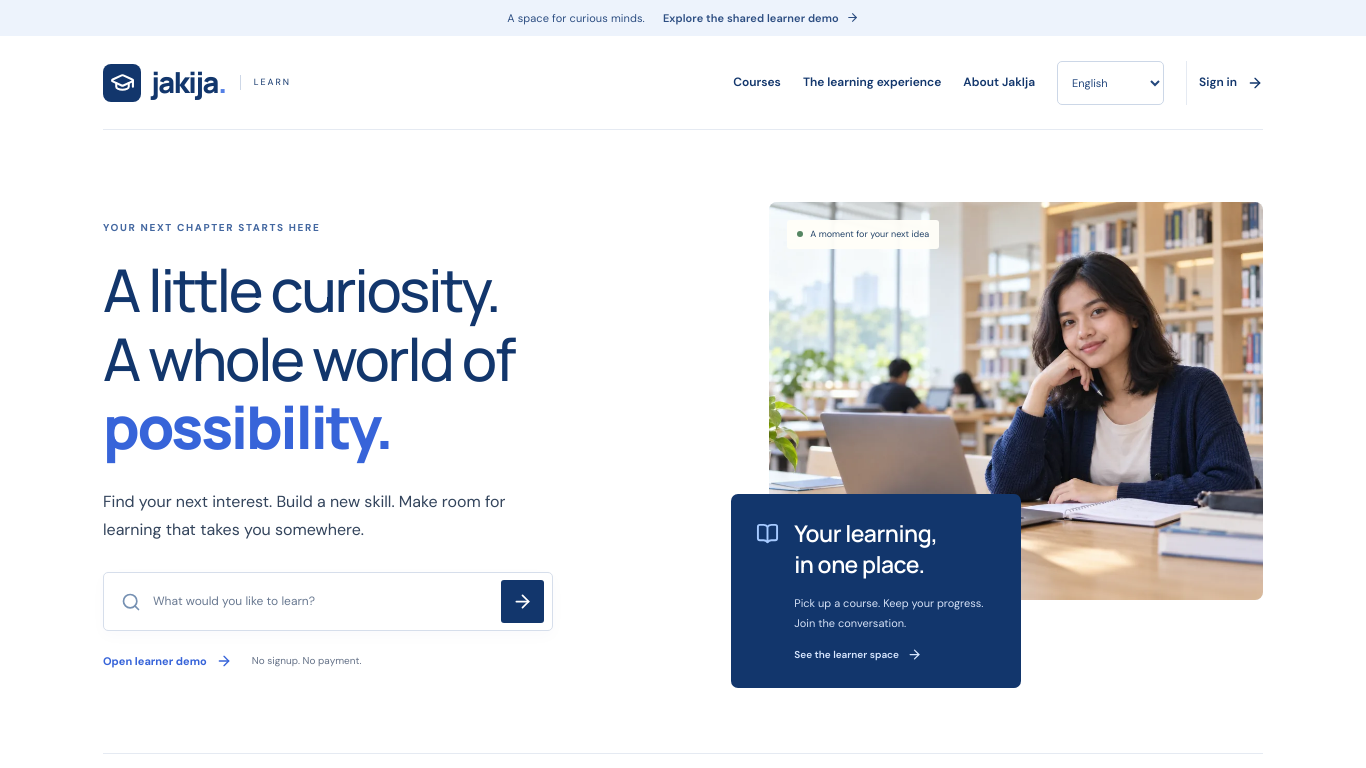
Test: public landing and demo entry › opens demo sign-in with only the shared learner credentials and returns home
What coordinates should you click on to do the following:
click the link "Open learner demo"
I would click on:
 (167, 661)
Its box is top-left (103, 652), bottom-right (232, 670).
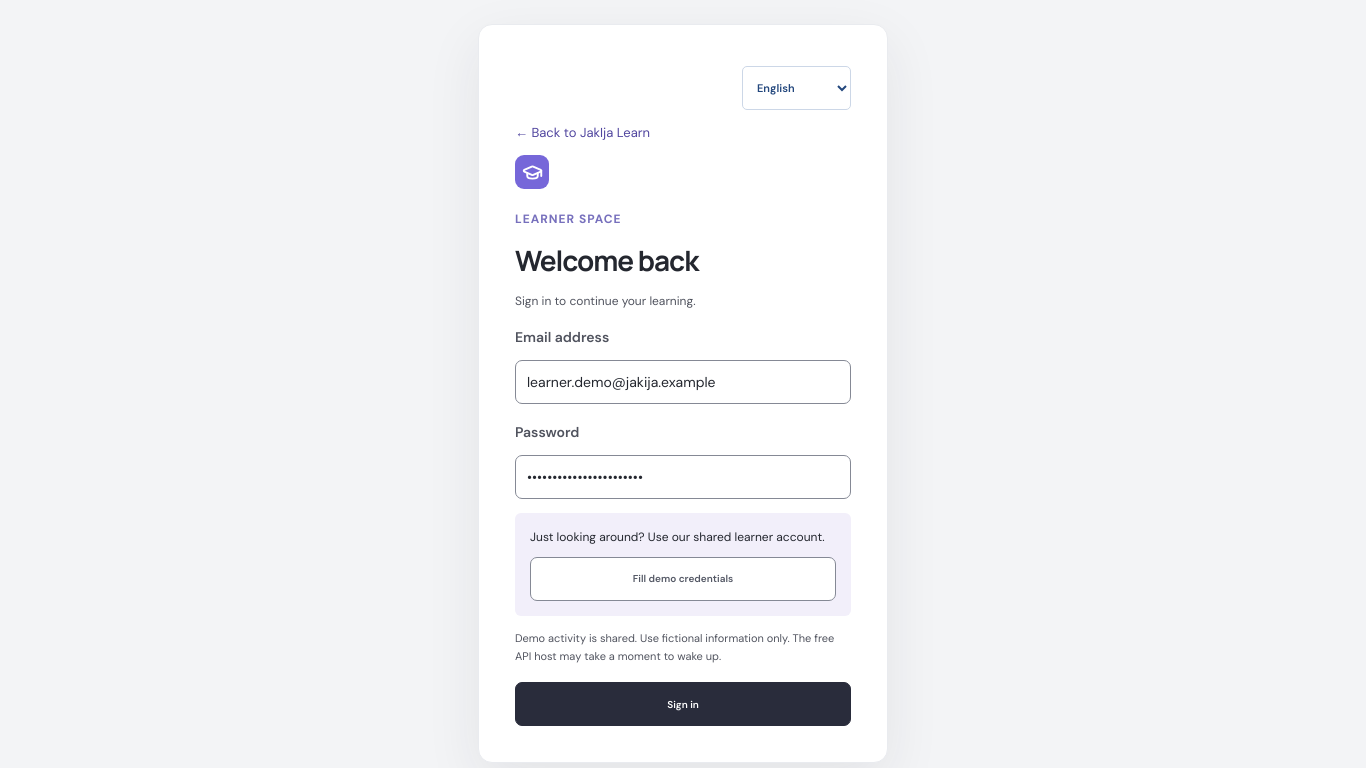
Check: the heading "Welcome back" is shown, box top-left (515, 241), bottom-right (698, 279)
Check: the field labelled "Email address" holds "learner.demo@jakija.example", box top-left (515, 360), bottom-right (851, 404)
Check: the password field labelled "Password" holds "JakIja-Learn-Demo-2026!", box top-left (515, 455), bottom-right (851, 499)
What coordinates should you click on to do the following:
click the link "← Back to JakIja Learn"
I would click on:
 (583, 132)
Its box is top-left (515, 124), bottom-right (650, 141).
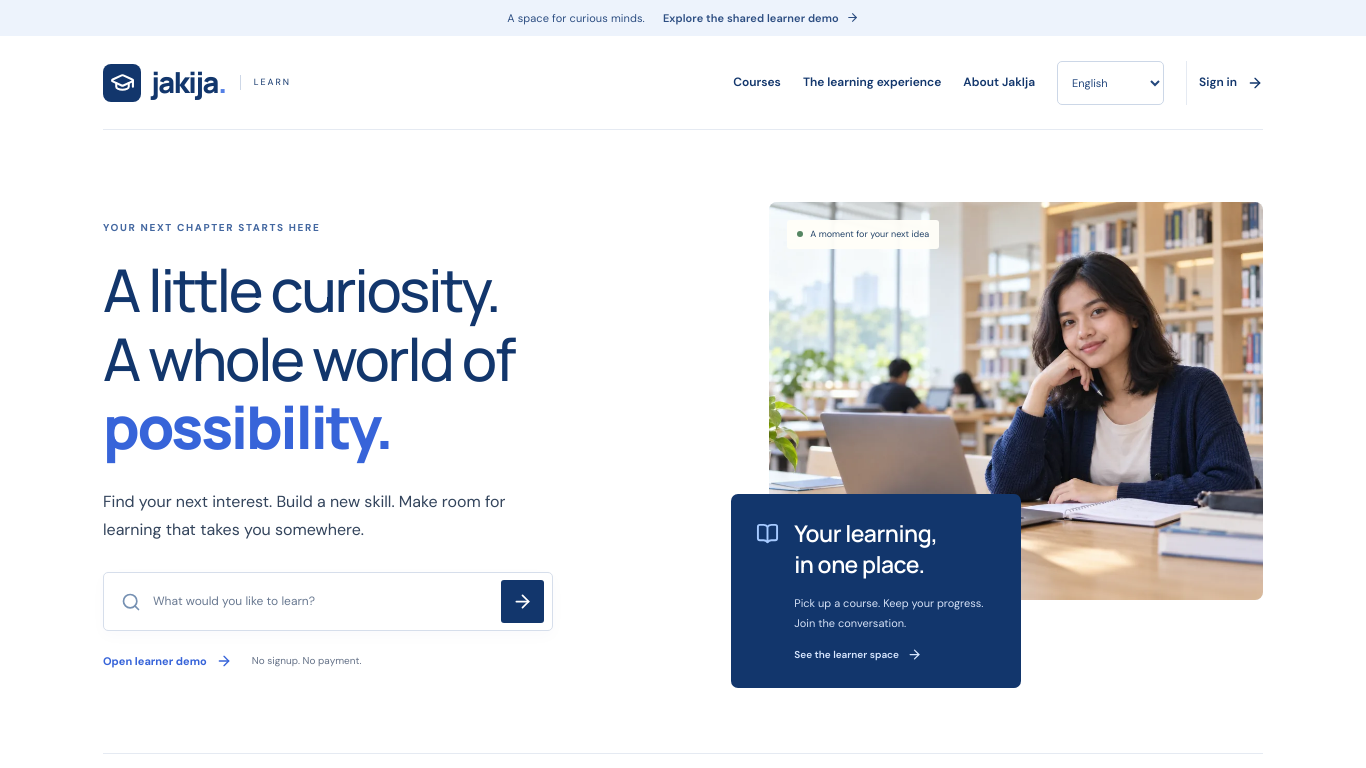
Check: the heading "A little curiosity" is shown, box top-left (103, 249), bottom-right (514, 467)
